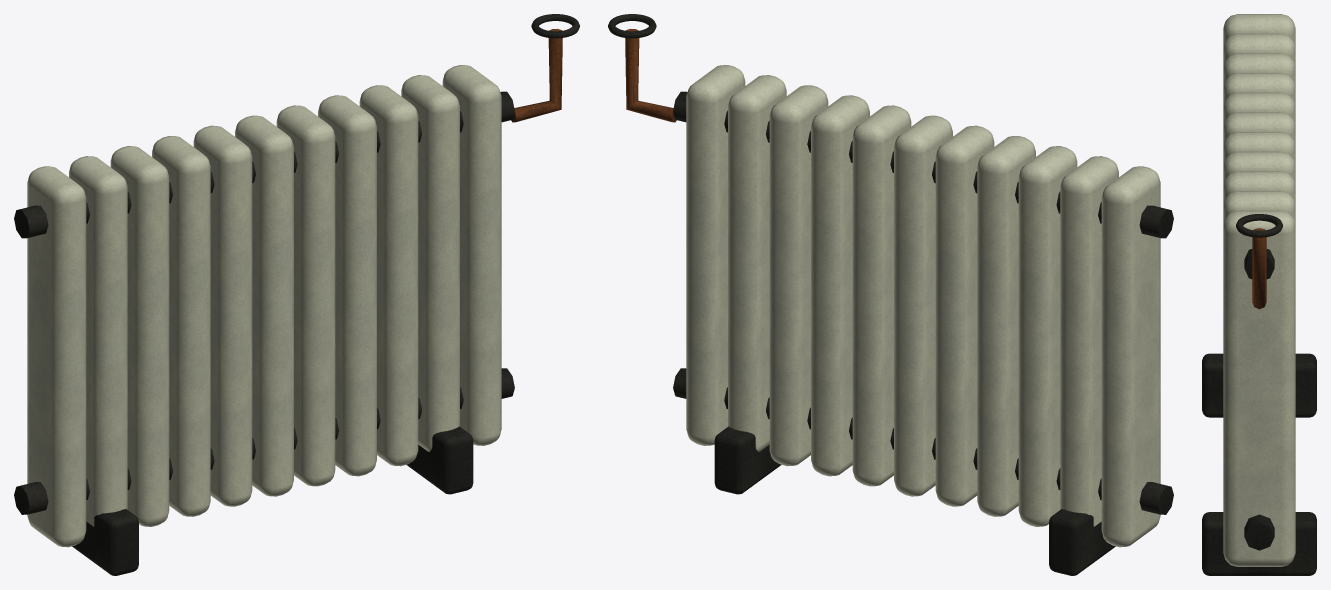
Rendered from Radiator.fbx.
The picture shows the model from 3 angles, left to right: view 1: azimuth 30°, elevation 25°; view 2: azimuth 150°, elevation 25°; view 3: azimuth 270°, elevation 25°; orthographic projection. The views are drawn at different scales.
Visible parts, largest first — view 1: Radiator_Enamel, Radiator_Iron, Radiator_Copper; view 2: Radiator_Enamel, Radiator_Iron, Radiator_Copper; view 3: Radiator_Enamel, Radiator_Iron, Radiator_Copper.
Part boxes in pixels (<box>): Radiator_Enamel: <box>27,65,501,547</box>; Radiator_Iron: <box>14,14,579,575</box>; Radiator_Copper: <box>511,28,562,122</box>; Radiator_Enamel: <box>686,65,1160,547</box>; Radiator_Iron: <box>608,14,1173,575</box>; Radiator_Copper: <box>625,28,676,122</box>; Radiator_Enamel: <box>1223,14,1295,566</box>; Radiator_Iron: <box>1202,214,1316,575</box>; Radiator_Copper: <box>1252,228,1266,309</box>.
Bounding box in the file's own units: 103 × 74.4 × 19.
